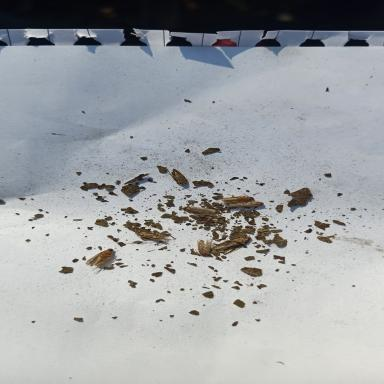pbw: (210, 236, 250, 258), (84, 247, 117, 265), (166, 169, 190, 187), (136, 229, 166, 241), (183, 206, 217, 216), (226, 200, 264, 207), (219, 195, 256, 202), (198, 240, 213, 256)
